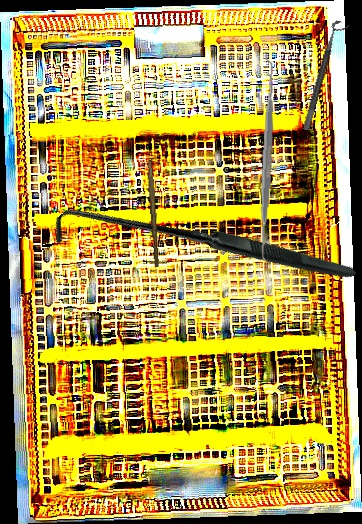Fixation Ring: (302, 19, 350, 134)
Hook Surgical: (44, 93, 358, 407)
Scalpel Handle: (144, 159, 162, 268)
Spatula Surgical: (249, 57, 284, 262)
